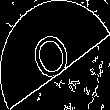O_SE: (29, 22, 81, 88)
